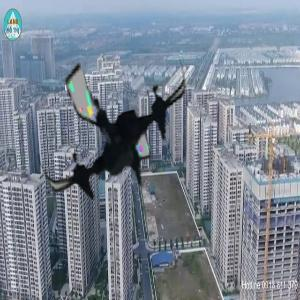drone: (33, 49, 198, 214)
